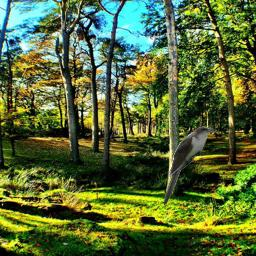Cuckoo: (161, 125, 216, 207)
